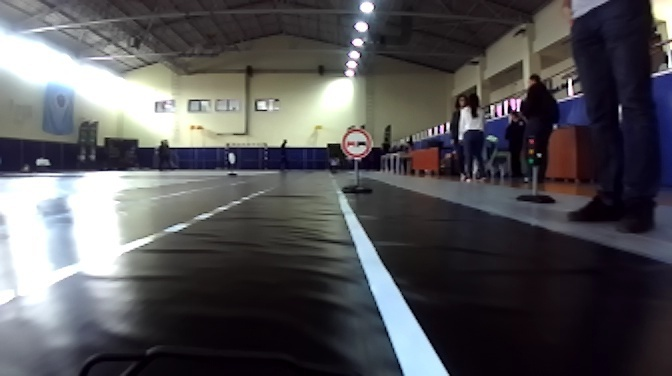sollama_yasak: (339, 128, 371, 160)
